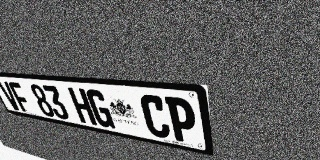3: (42, 85, 70, 120)
8: (28, 84, 56, 118)
C: (139, 94, 172, 140)
F: (7, 82, 34, 113)
G: (85, 89, 116, 129)
H: (67, 87, 97, 125)
P: (164, 96, 198, 145)
V: (0, 81, 22, 111)
